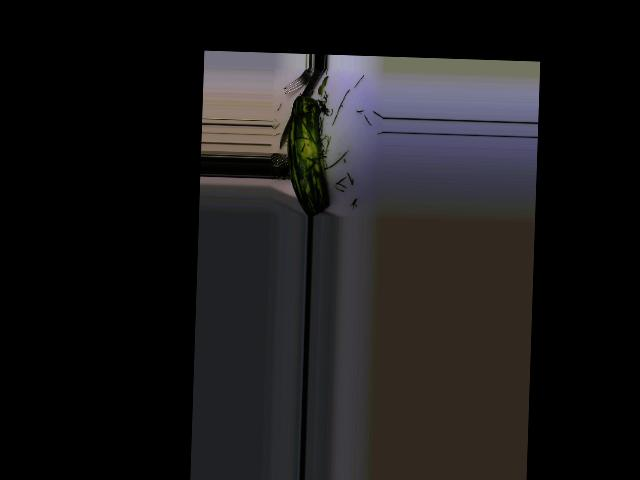cucumber: (285, 94, 333, 216)
